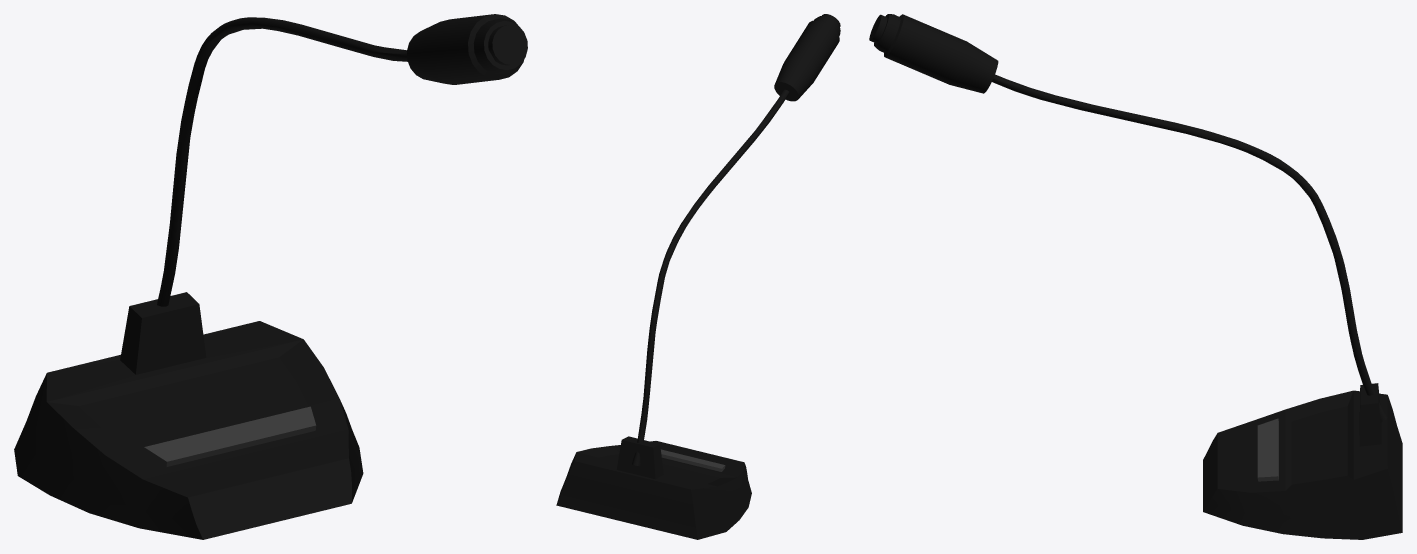
Rendered from Microphone.FBX.
3 renders of one model, left to right at view 1: azimuth 30°, elevation 25°; view 2: azimuth 150°, elevation 25°; view 3: azimuth 270°, elevation 25°, orthographic. The views are drawn at different scales.
Parts seen in each view (by area): view 1: Microphone; view 2: Microphone; view 3: Microphone.
Part boxes in pixels (x1,y1,x2,y2): Microphone: (14,14,527,539); Microphone: (556,14,840,539); Microphone: (869,14,1402,539).
Bounding box in the file's own units: 11.78 × 24.58 × 25.2.
1 material, 1 textured.
